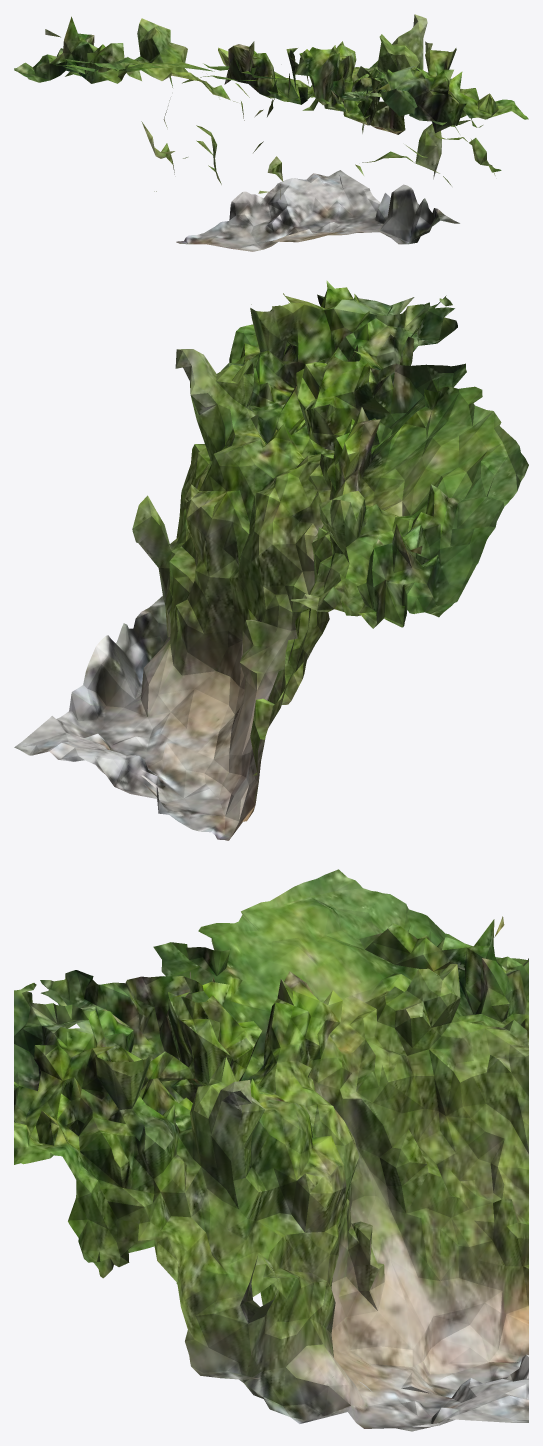
3 renders of one model, top to bottom at view 1: azimuth 30°, elevation 25°; view 2: azimuth 150°, elevation 25°; view 3: azimuth 270°, elevation 25°, orthographic. The views are drawn at different scales.
Size of the model in its own units: 26.11 by 21.29 by 26.11.
5 materials, 5 textured.
